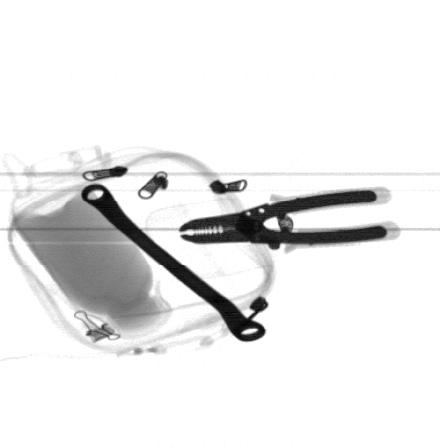Pliers: (177, 188, 390, 244)
Wrench: (79, 184, 266, 343)
